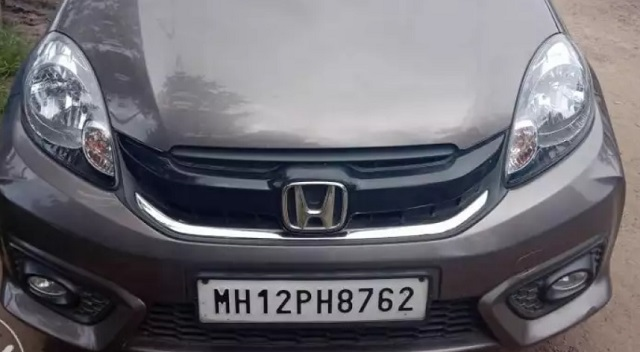licenseplate: (198, 275, 431, 323)
